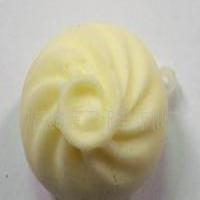biodegradable: (20, 21, 170, 200)
